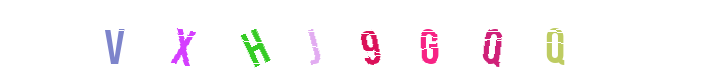9: (315, 0, 395, 80)
G: (385, 0, 465, 80)
H: (215, 0, 295, 80)
J: (282, 0, 362, 80)
Q: (397, 0, 477, 80), (471, 0, 551, 80)
V: (74, 0, 154, 80)
X: (143, 0, 223, 80)
